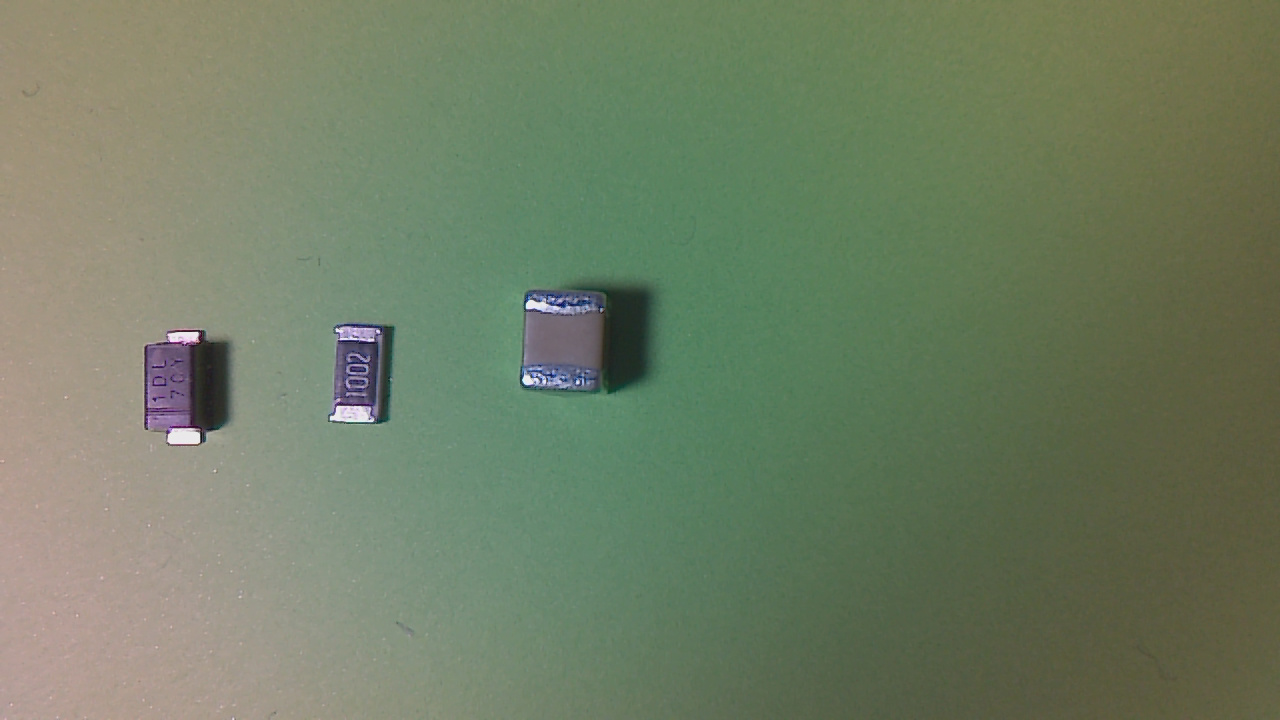Condensator: (522, 292, 620, 403)
Diode: (145, 334, 225, 453)
Resistor: (328, 324, 387, 433)
